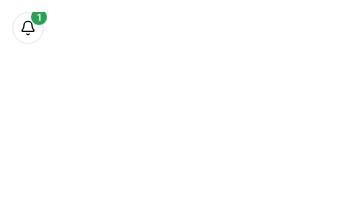
Test: falha da ação › marcarComoLida falhando desfaz a marcação, mostra o erro e não navega
This screenshot has width=355, height=218.
Click the button named "Notificações": (28, 28) [12,12,44,44]
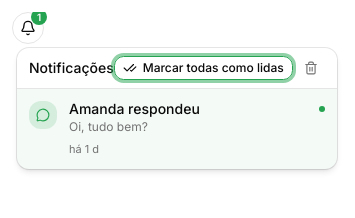
Click the text "Amanda respondeu": (134, 109) [69,99,200,119]
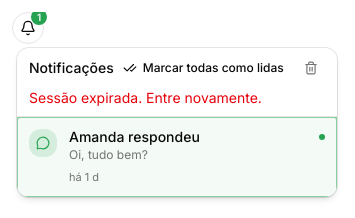
Check: the text "Sessão expirada. Entre novamente." is shown, box [29,89,262,106]
